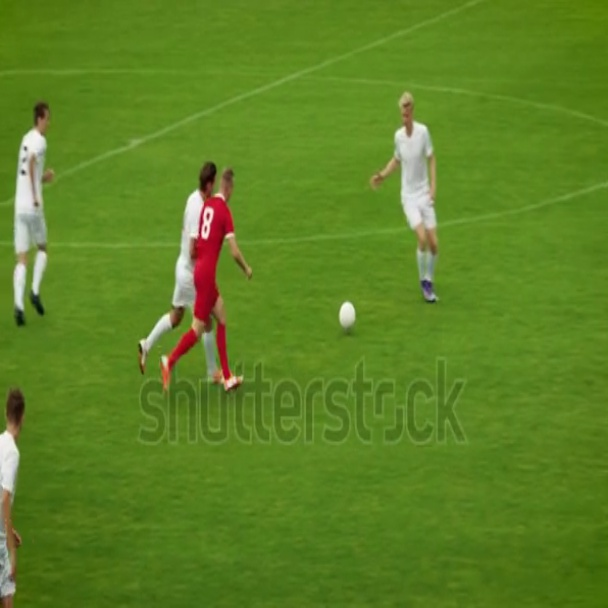ball: (341, 299, 359, 335)
